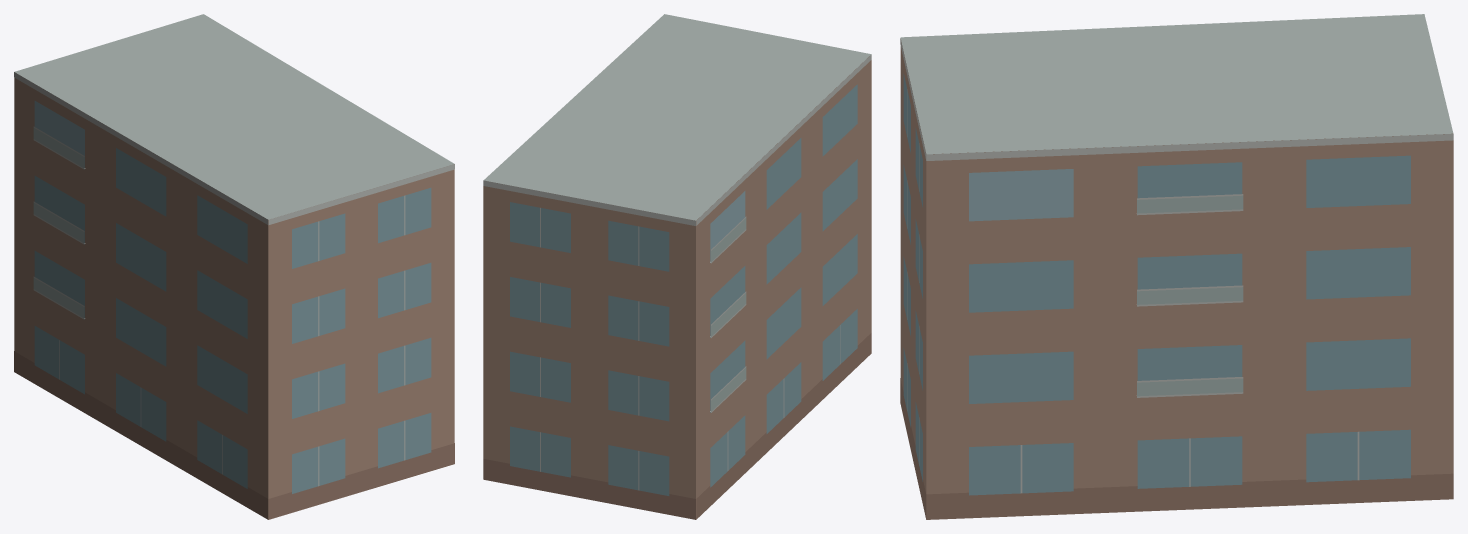
File: survey-upis-32630013.glb
3 views of the same model, side by side, from view 1: azimuth 30°, elevation 25°; view 2: azimuth 150°, elevation 25°; view 3: azimuth 270°, elevation 25° (orthographic). The views are drawn at different scales.
Visible parts, largest first — view 1: survey-upis-32630013.tmp; view 2: survey-upis-32630013.tmp; view 3: survey-upis-32630013.tmp.
Part boxes in pixels (bbox=[...]): survey-upis-32630013.tmp: bbox=[14, 14, 454, 519]; survey-upis-32630013.tmp: bbox=[483, 14, 871, 519]; survey-upis-32630013.tmp: bbox=[900, 14, 1453, 519].
Size of the model in its own units: 10.88 by 13.2 by 18.11.
